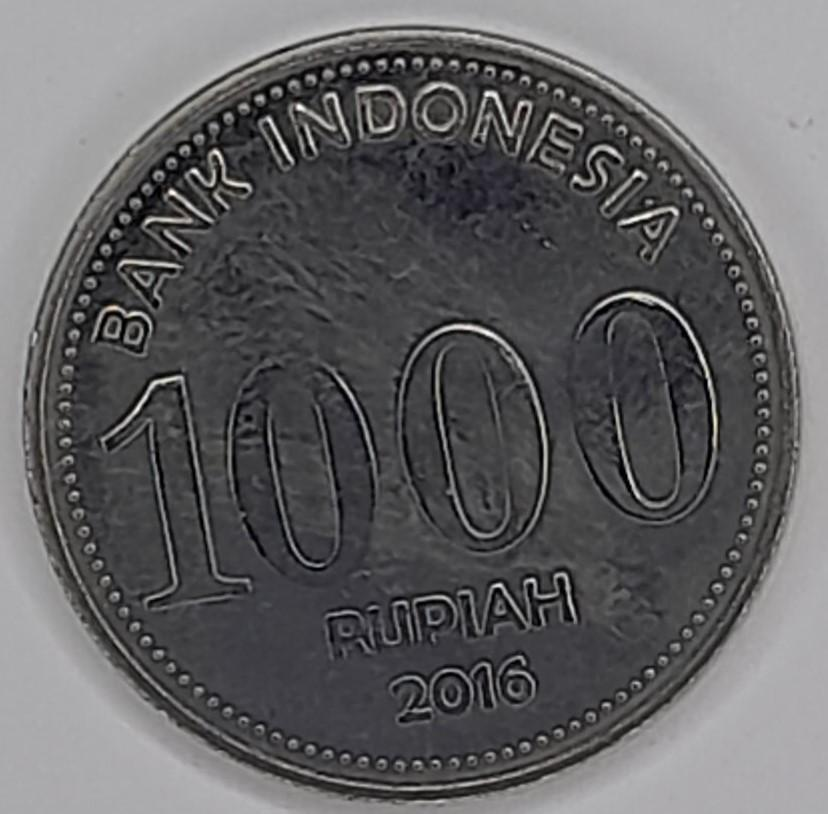coin_1000_e2016: (14, 16, 817, 814)
